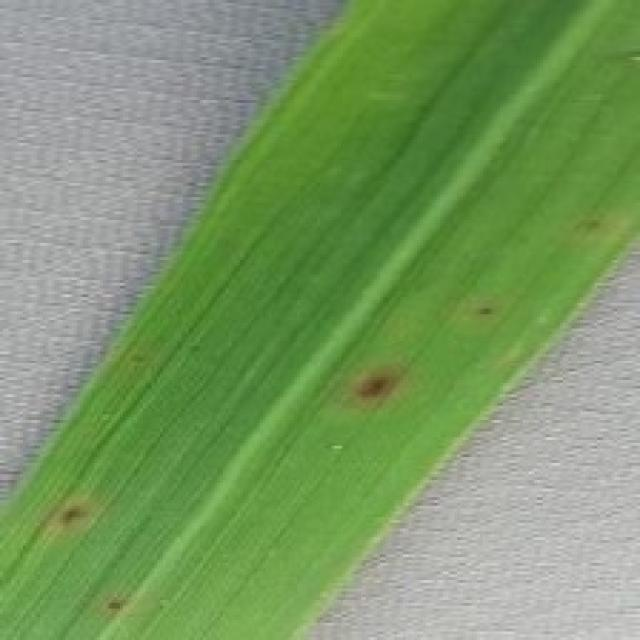Rice___Brown_Spot: (0, 1, 637, 637)
